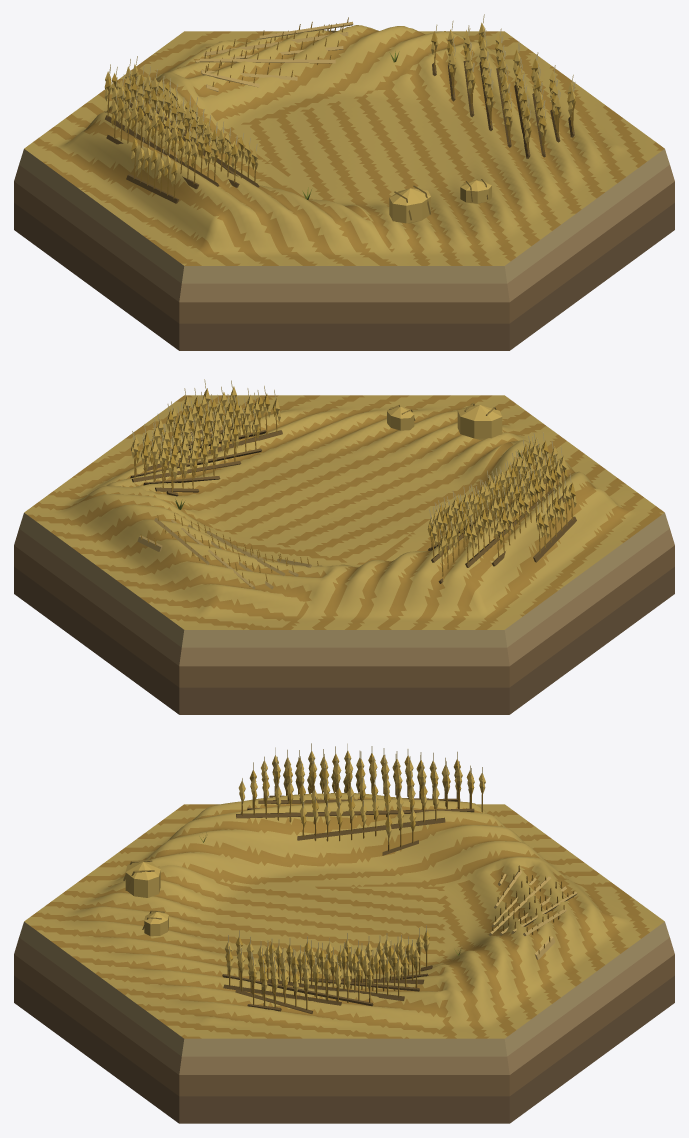
Rendered from catan_terrain_wheat_03.glb.
3 views of the same model, one above another, from view 1: azimuth 30°, elevation 25°; view 2: azimuth 150°, elevation 25°; view 3: azimuth 270°, elevation 25° (orthographic).
Visible parts, largest first — view 1: catan_terrain_wheat_03_ground, catan_terrain_wheat_03_decoration; view 2: catan_terrain_wheat_03_ground, catan_terrain_wheat_03_decoration; view 3: catan_terrain_wheat_03_ground, catan_terrain_wheat_03_decoration.
Boxes of the visible parts, box(x1,y1,x2,y2) form: catan_terrain_wheat_03_ground: box(14, 25, 674, 350); catan_terrain_wheat_03_decoration: box(104, 14, 575, 223); catan_terrain_wheat_03_ground: box(14, 395, 674, 714); catan_terrain_wheat_03_decoration: box(130, 379, 576, 589); catan_terrain_wheat_03_ground: box(14, 793, 674, 1123); catan_terrain_wheat_03_decoration: box(123, 743, 577, 1013).
Bounding box in the file's own units: 1.71 × 0.5617 × 1.97.
